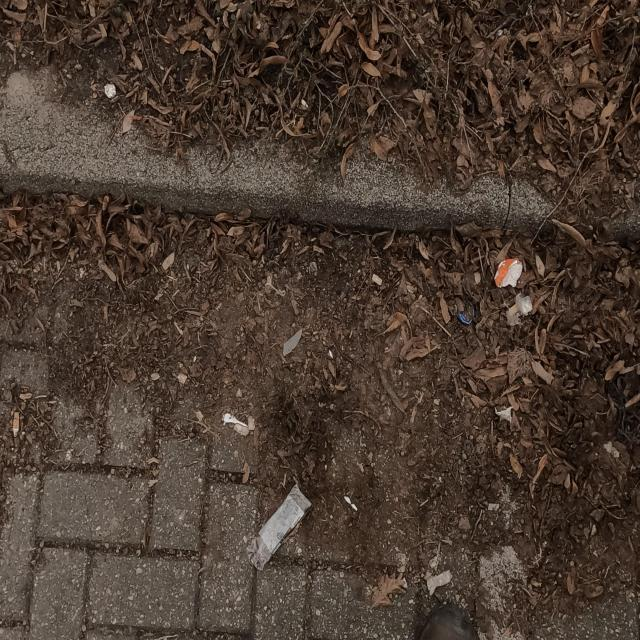Plastic: (245, 482, 312, 572), (493, 256, 524, 288)
